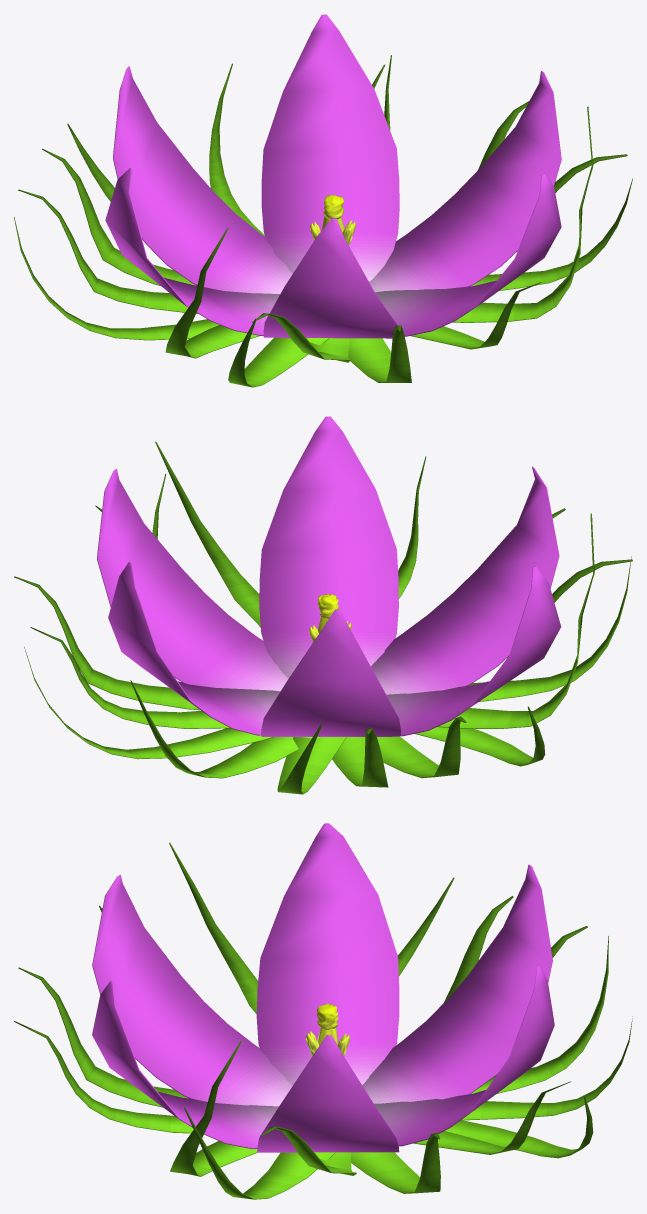
The model's file is SM_Purp.fbx.
3 renders of one model, top to bottom at view 1: azimuth 30°, elevation 25°; view 2: azimuth 150°, elevation 25°; view 3: azimuth 270°, elevation 25°, orthographic. The views are drawn at different scales.
Parts seen in each view (by area): view 1: Plane.018; view 2: Plane.018; view 3: Plane.018.
Part boxes in pixels (<box>): Plane.018: <box>14,14,632,387</box>; Plane.018: <box>14,416,632,794</box>; Plane.018: <box>14,823,632,1199</box>.
Size of the model in its own units: 9.41 by 3.34 by 9.37.
